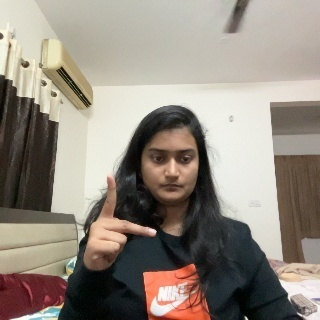Okay: (74, 173, 163, 284)
